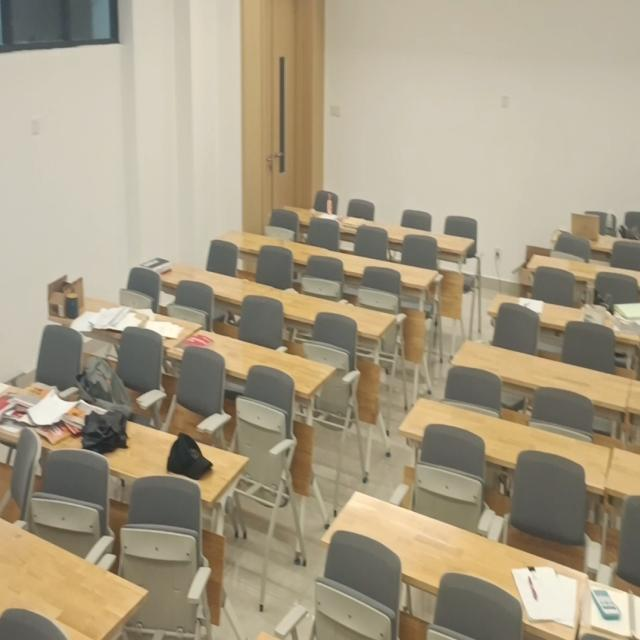Non-empty: (323, 490, 589, 640), (46, 403, 251, 500), (51, 281, 200, 351), (482, 286, 640, 343), (0, 378, 78, 445), (272, 204, 379, 237), (587, 582, 640, 640)
empty: (394, 395, 611, 497), (450, 337, 631, 404), (253, 286, 398, 337), (311, 251, 437, 293), (522, 251, 639, 287), (376, 220, 470, 259)
